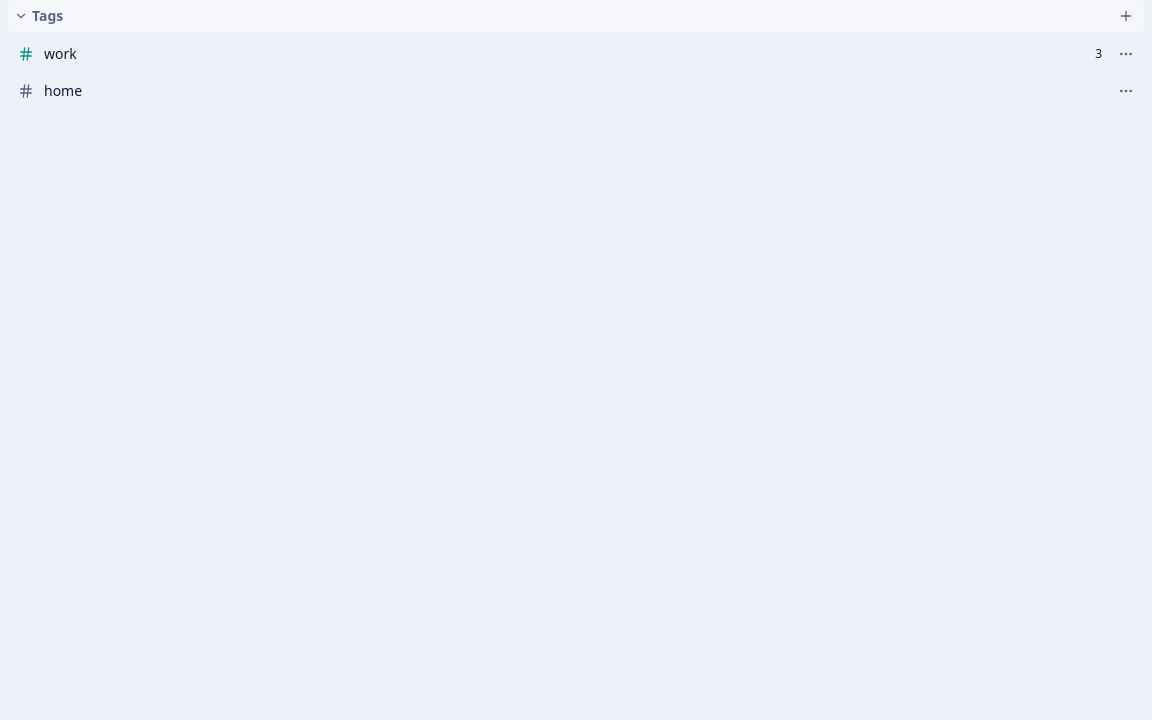
SidebarTags › deletes a Tag after a confirm, and not when cancelled
Click the button named "home options": {"x": 1126, "y": 91} [1112, 77, 1140, 105]
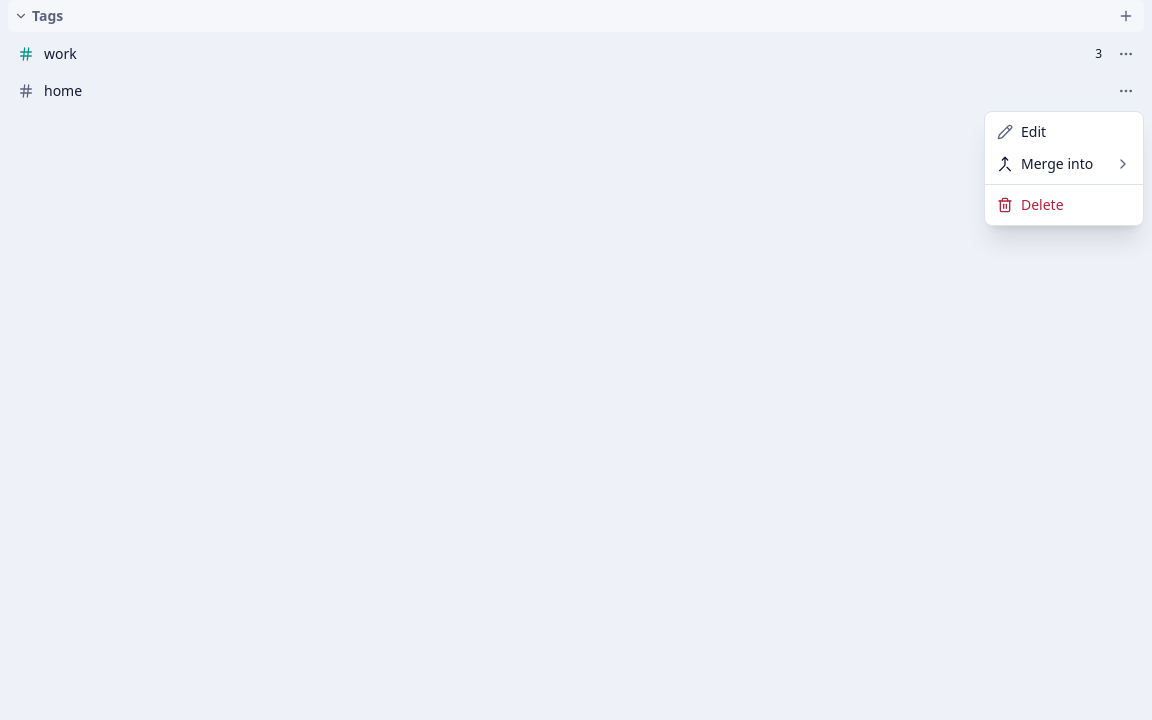
Click the menu item "Delete": {"x": 1030, "y": 204} [997, 195, 1064, 214]
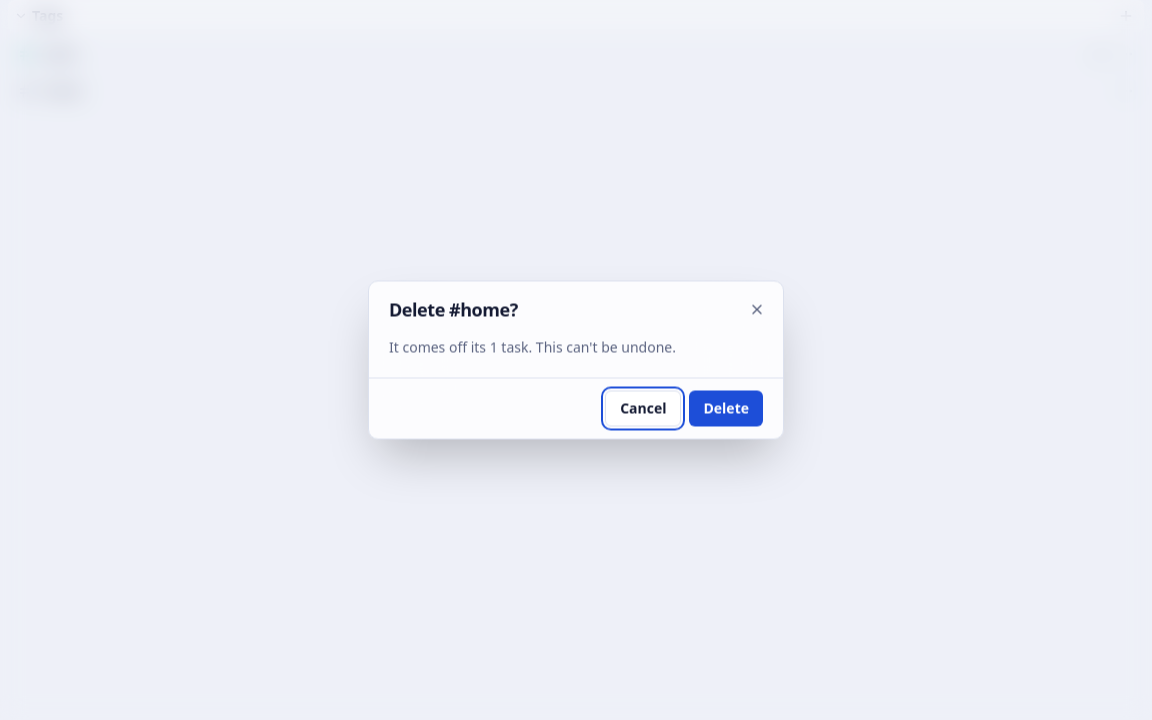
Click the button "Cancel": {"x": 643, "y": 408} [605, 390, 682, 426]
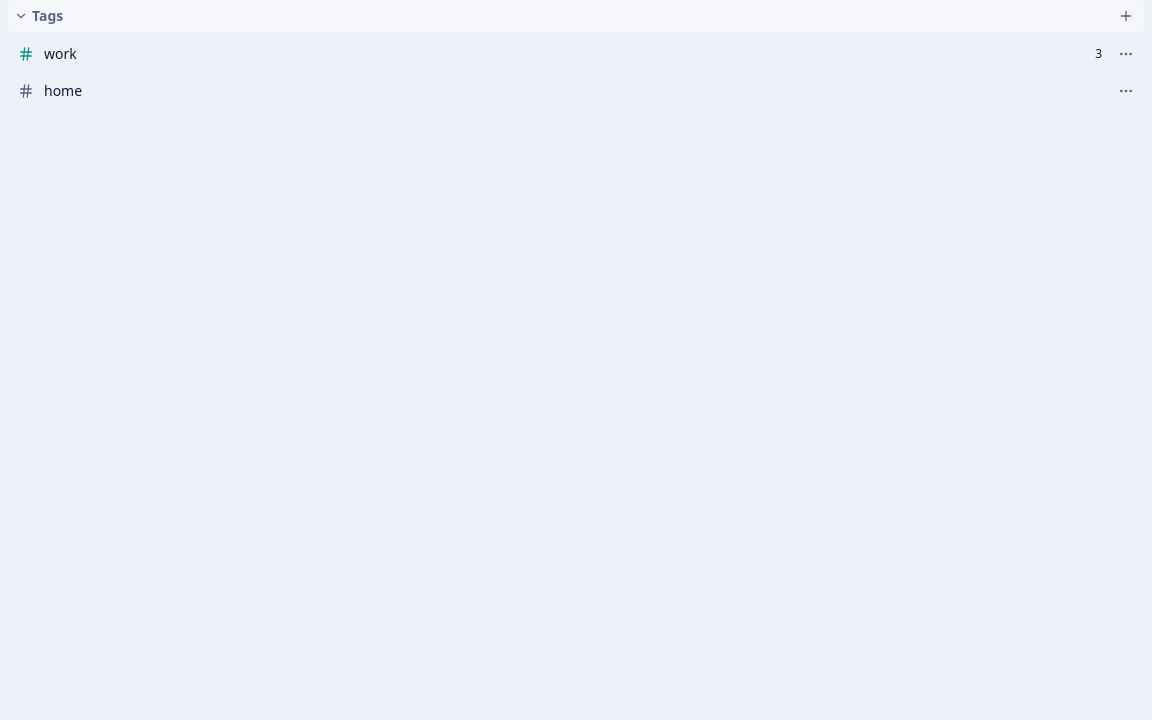
Click the button named "home options": {"x": 1126, "y": 91} [1112, 77, 1140, 105]
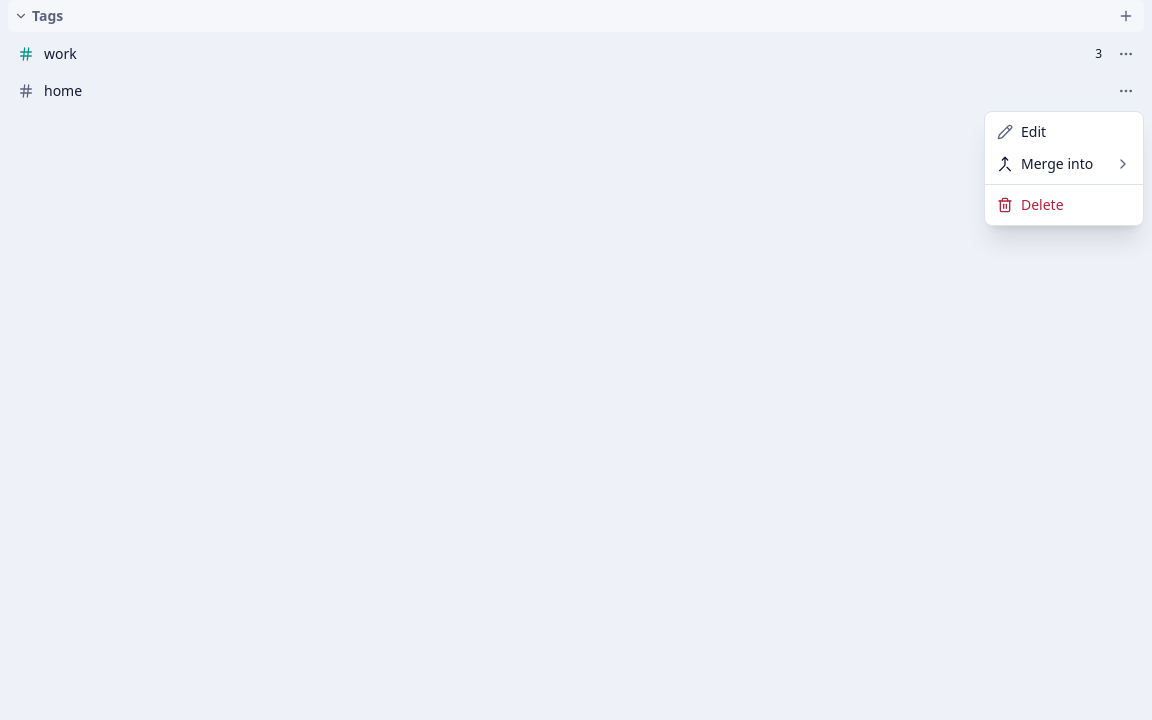
Click the menu item "Delete": {"x": 1030, "y": 204} [997, 195, 1064, 214]
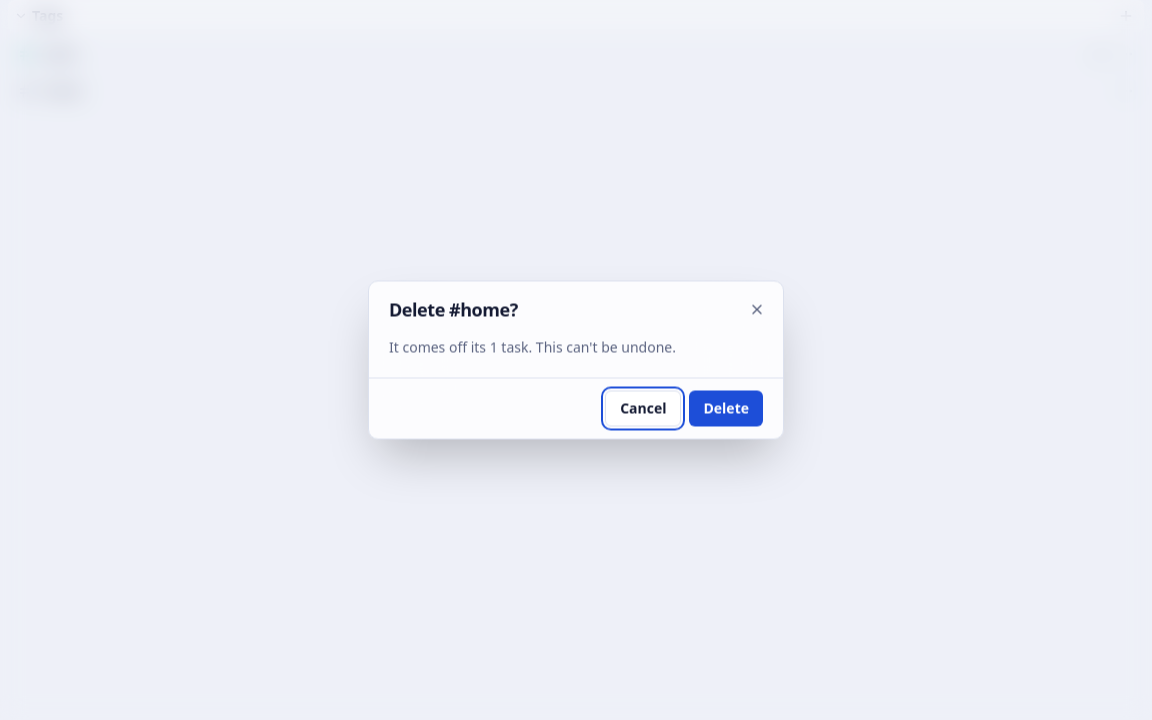
Check: the dialog "Delete #home?" shows "It comes off its 1 task.", box [389, 338, 676, 356]
Click the button "Delete": {"x": 726, "y": 408} [690, 390, 763, 426]
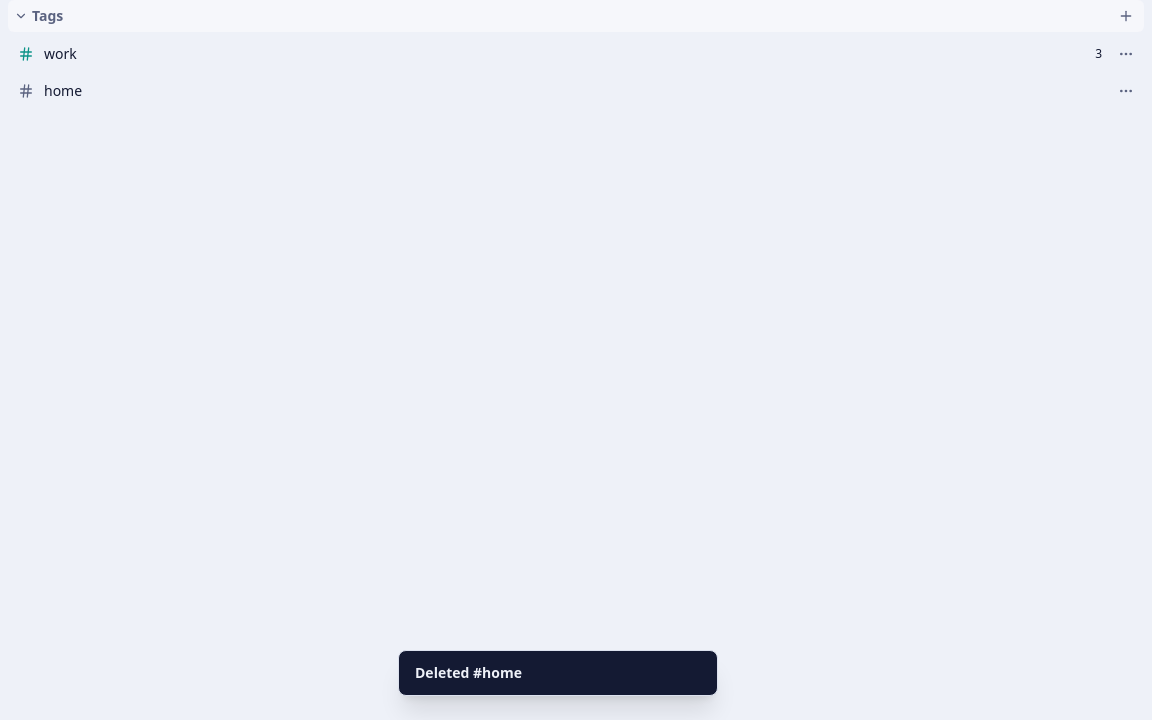
Check: the text "Deleted #home" is shown, box [415, 663, 522, 683]
